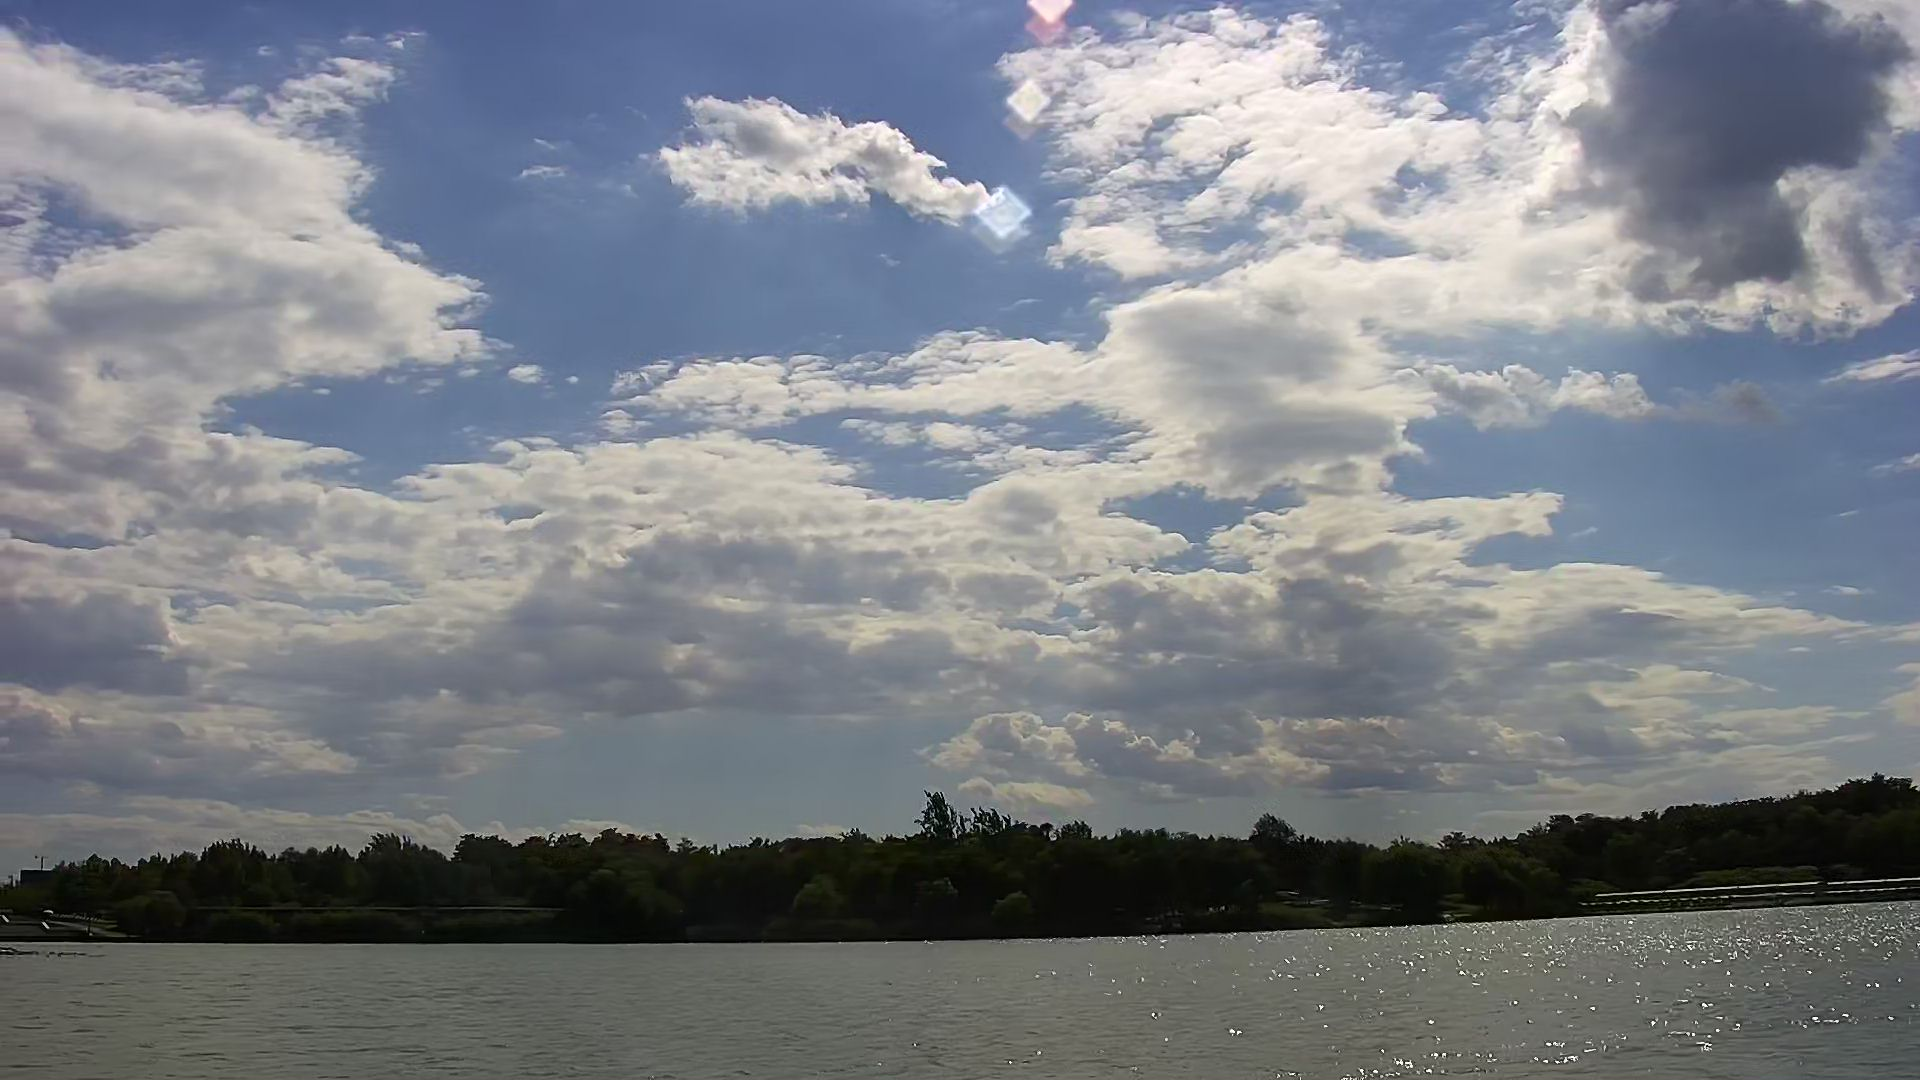harbor: (1577, 866, 1915, 911)
